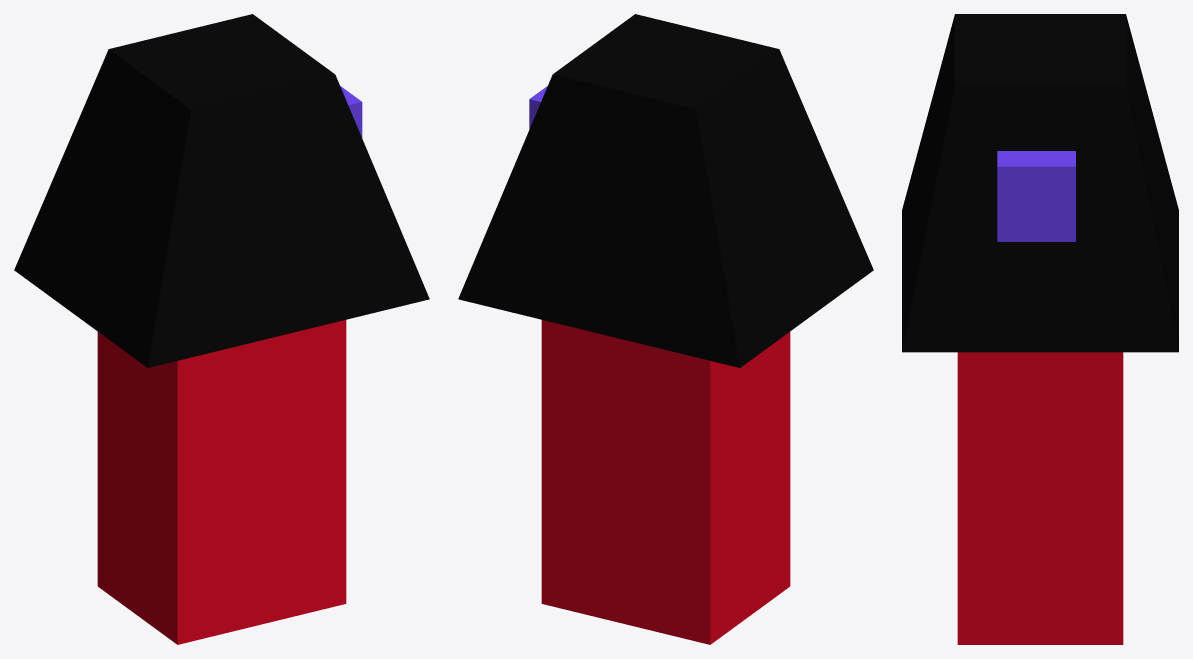
The model's file is Cyc.glb.
3 views of the same model, side by side, from view 1: azimuth 30°, elevation 25°; view 2: azimuth 150°, elevation 25°; view 3: azimuth 270°, elevation 25° (orthographic). The views are drawn at different scales.
Visible parts, largest first — view 1: Cube, Cube.001; view 2: Cube, Cube.001; view 3: Cube, Cube.001, Cube.002.
Boxes of the visible parts, box(x1,y1,x2,y2) form: Cube: box(14, 14, 429, 367); Cube.001: box(97, 320, 346, 644); Cube: box(458, 14, 873, 367); Cube.001: box(541, 320, 790, 644); Cube: box(902, 14, 1178, 352); Cube.001: box(957, 352, 1123, 644); Cube.002: box(997, 151, 1075, 241).
Size of the model in its own units: 1.9 by 3.44 by 1.56.
